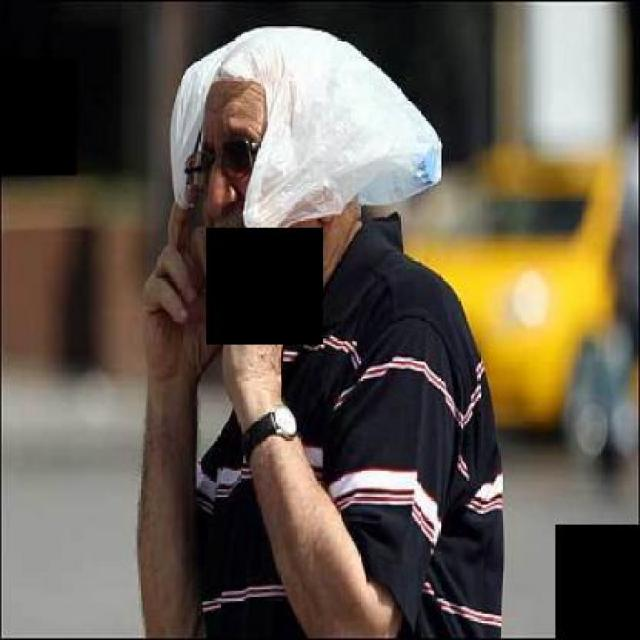plastic bag: (166, 18, 446, 235)
